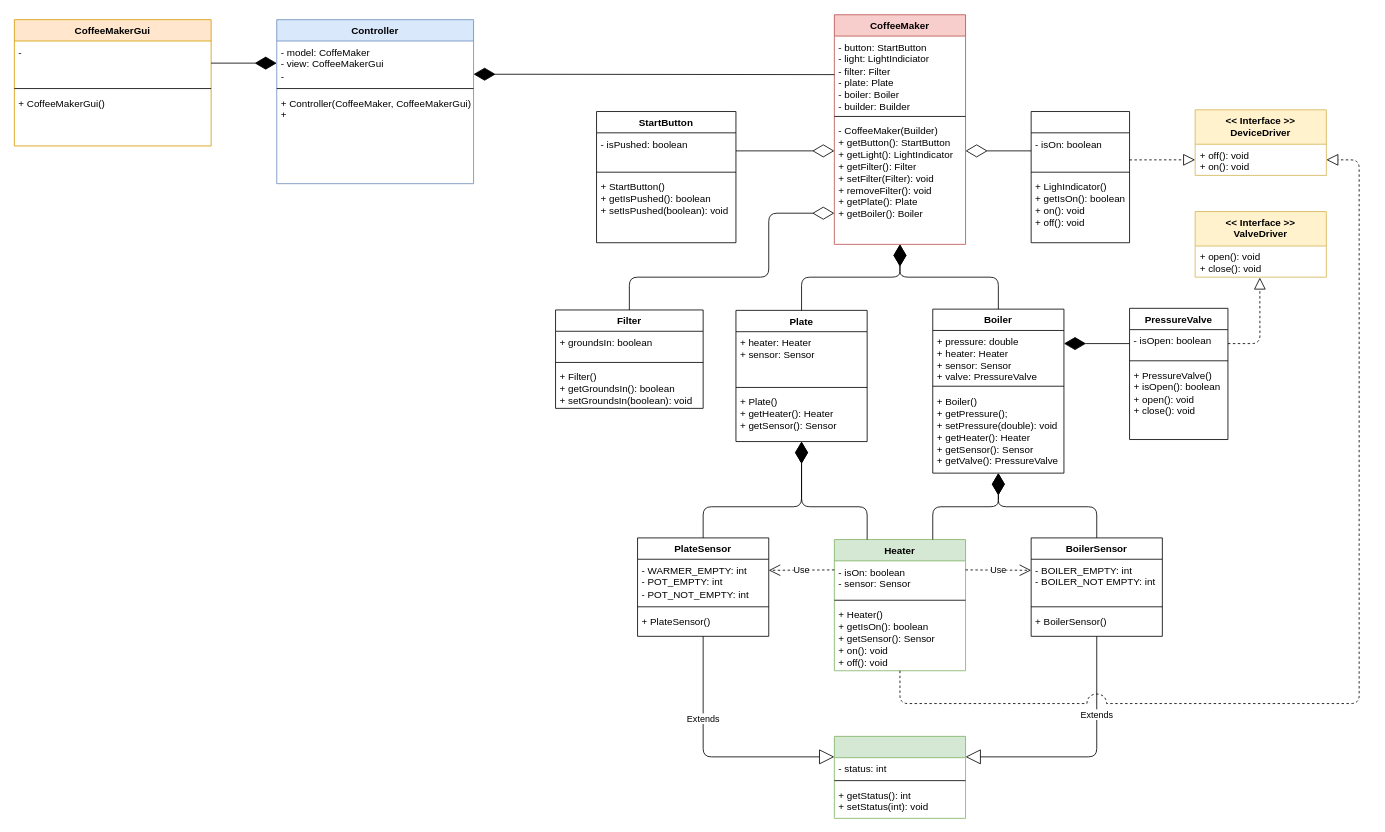
Image size: 1385x832. Some labels were removed from this diagram. Here are the shapes that lost their labels. From the top down, the box of each, then its label:
(1030, 111, 1130, 243): LightIndicator
(834, 736, 966, 818): Sensor
